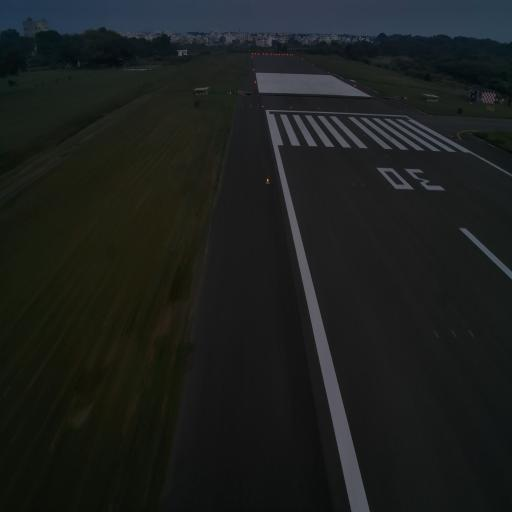off: (432, 325, 440, 343), (450, 327, 459, 342), (468, 326, 474, 342), (466, 186, 472, 191), (475, 184, 480, 190), (418, 183, 422, 189), (342, 181, 346, 187), (484, 185, 488, 190), (352, 180, 354, 188), (361, 183, 365, 187)
on: (266, 175, 270, 187)
